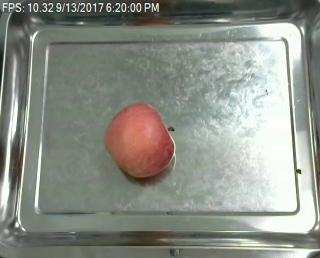apple: (102, 102, 179, 181)
